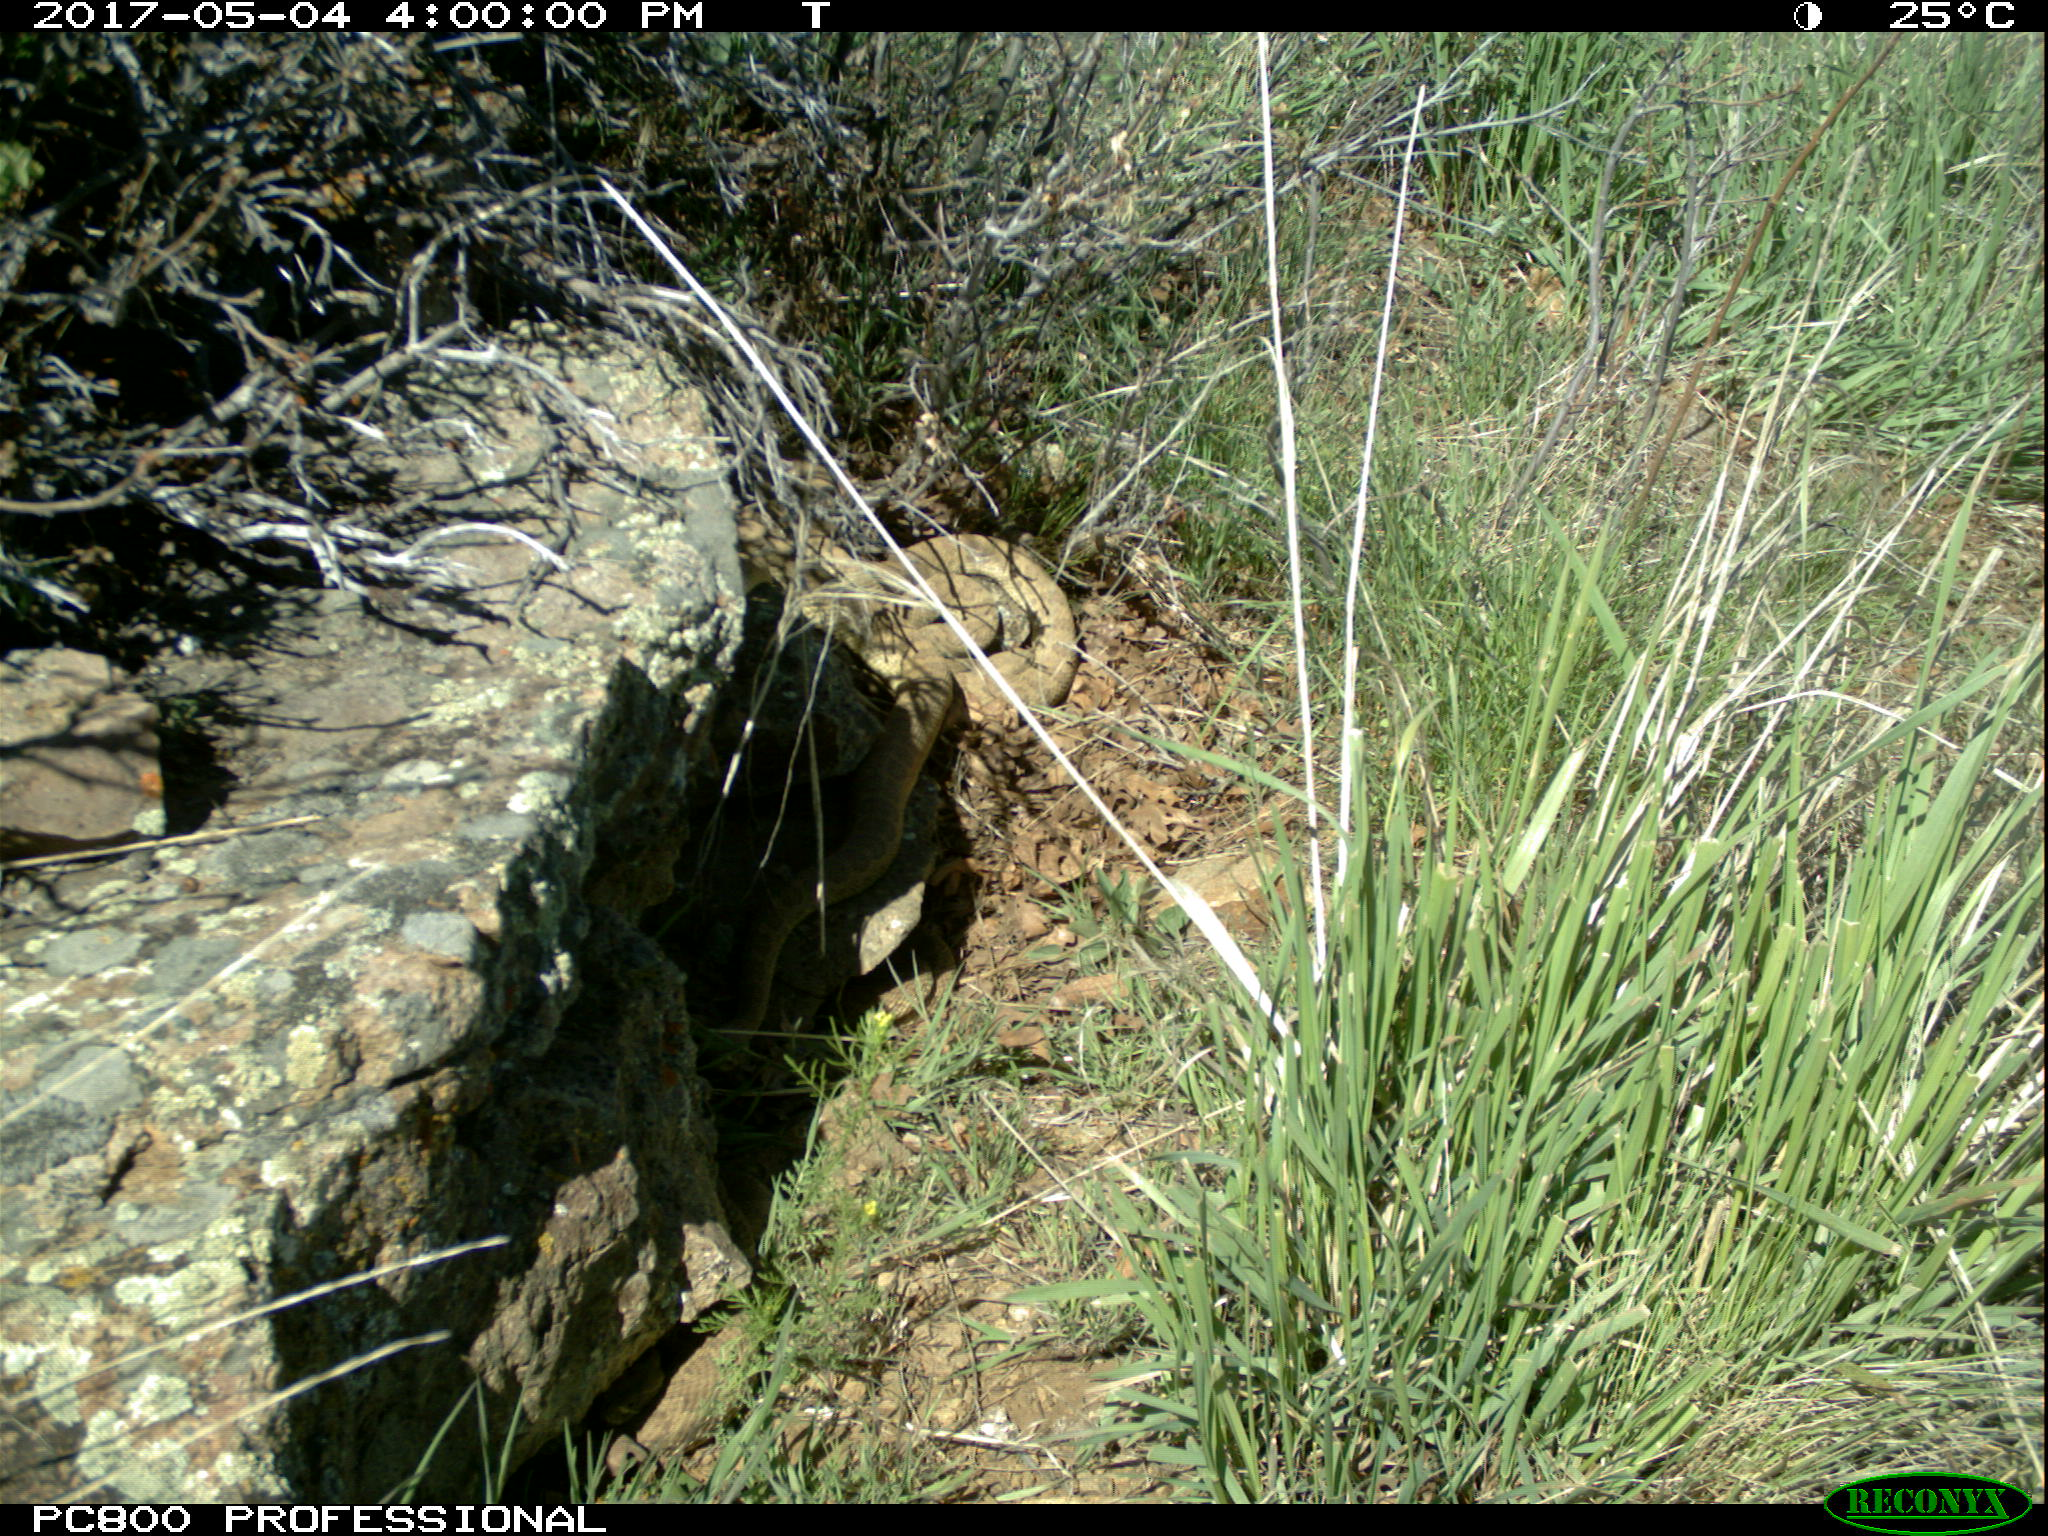snake: (801, 532, 1098, 734), (627, 1341, 764, 1454)
